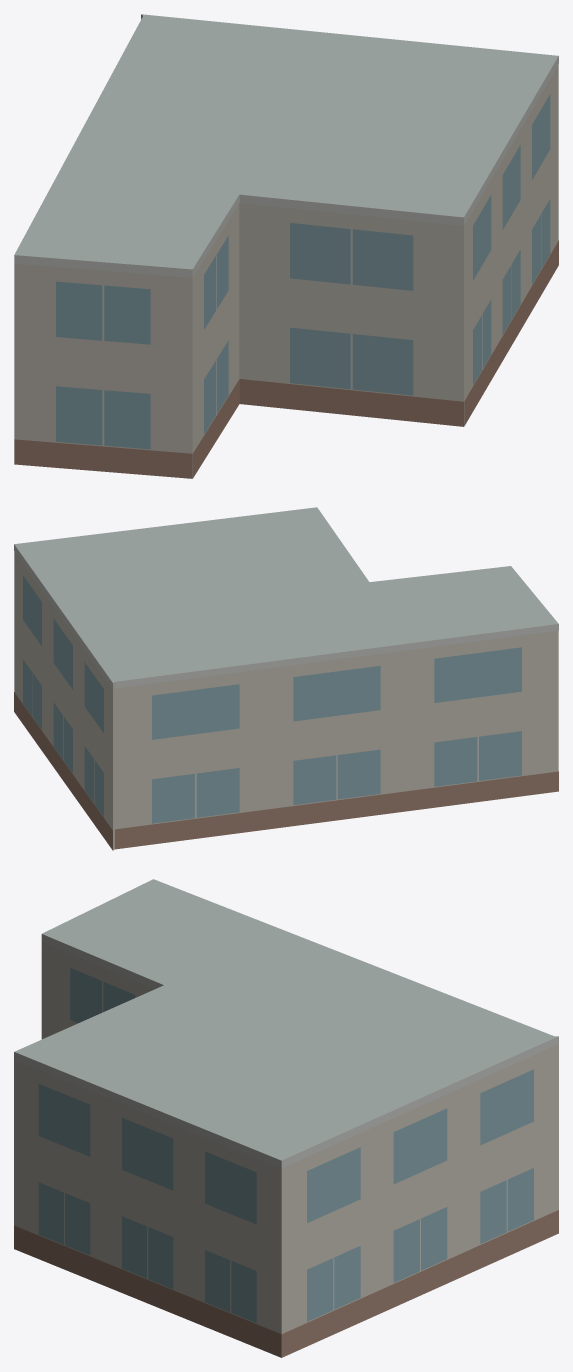
File: survey-upis-32761954.glb
The picture shows the model from 3 angles, top to bottom: view 1: azimuth 30°, elevation 25°; view 2: azimuth 150°, elevation 25°; view 3: azimuth 270°, elevation 25°; orthographic projection. The views are drawn at different scales.
Visible parts, largest first — view 1: survey-upis-32761954.tmp; view 2: survey-upis-32761954.tmp; view 3: survey-upis-32761954.tmp.
Part boxes in pixels (bbox=[...]): survey-upis-32761954.tmp: bbox=[14, 14, 558, 478]; survey-upis-32761954.tmp: bbox=[14, 507, 558, 850]; survey-upis-32761954.tmp: bbox=[14, 879, 558, 1357].
Size of the model in its own units: 18.69 by 6.1 by 15.28.
